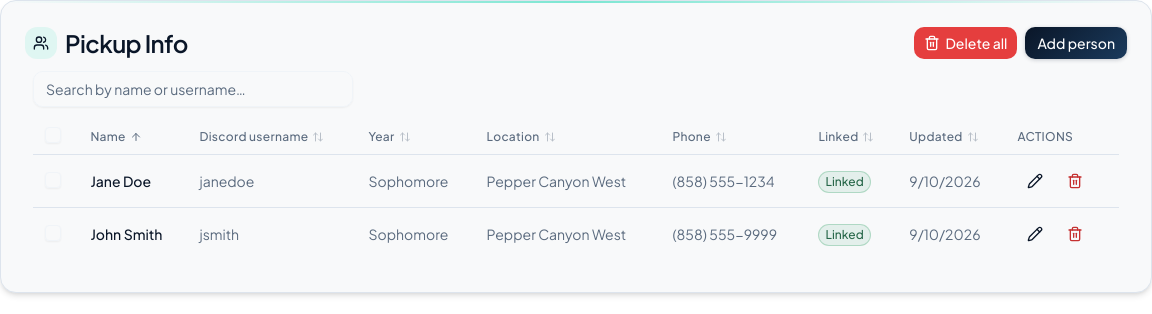
Scenario: PickupInfoTable › filters by phone number
Type "555-9999" into the field with placeholder "Search by name or username…" at coordinates (193, 89), box [33,71,353,107]
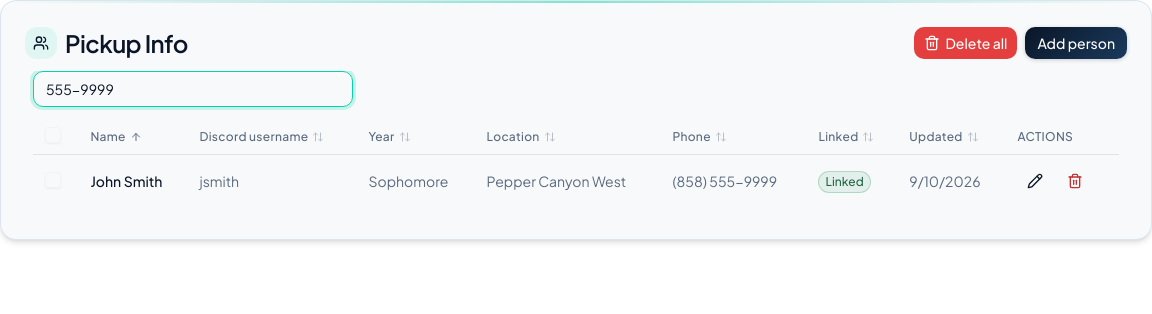
Check: the link "John Smith" is shown, box [90,171,162,191]
Check: the link "Jane Doe" is gone
